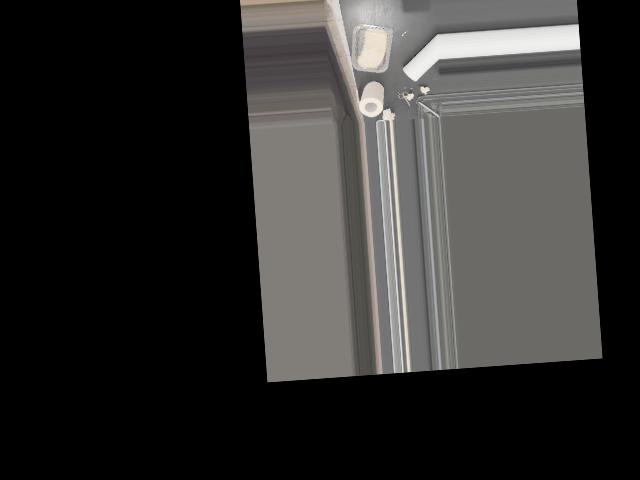cheese: (352, 21, 394, 74)
